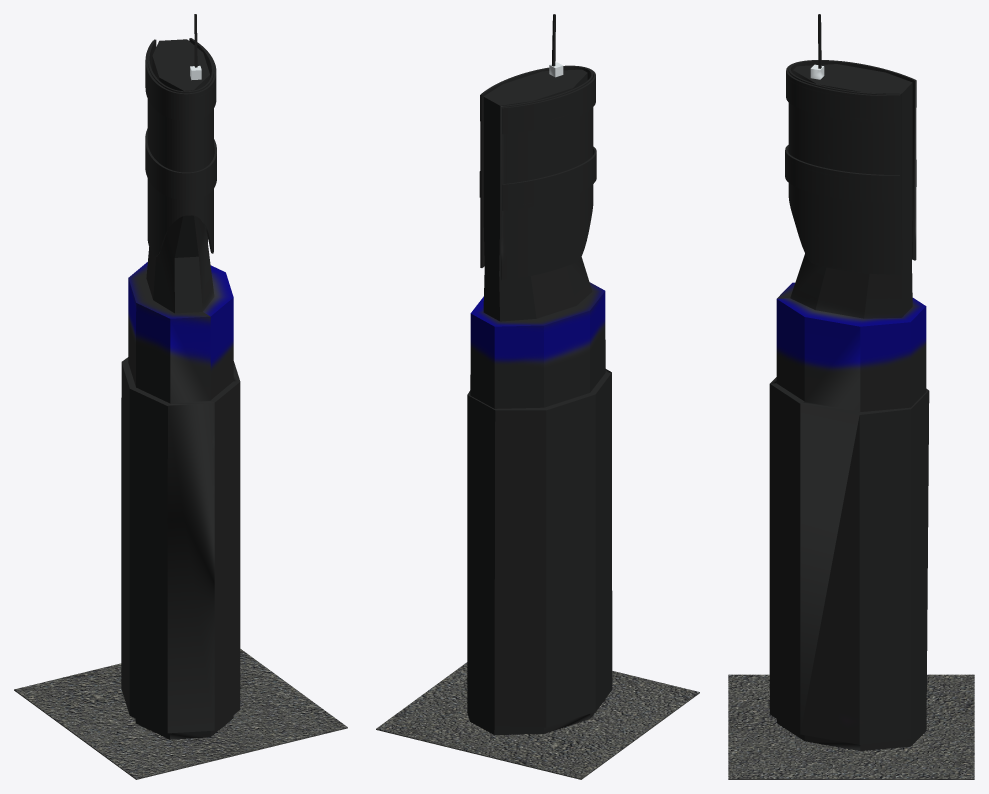
File: zone1.glb
3 views of the same model, side by side, from view 1: azimuth 30°, elevation 25°; view 2: azimuth 150°, elevation 25°; view 3: azimuth 270°, elevation 25° (orthographic). The views are drawn at different scales.
Parts seen in each view (by area): view 1: Tower, Cube; view 2: Tower, Cube; view 3: Tower, Cube.
Boxes of the visible parts, left/top/right/bottom form: Tower: left=121, top=14, right=240, bottom=739; Cube: left=14, top=649, right=347, bottom=779; Tower: left=467, top=14, right=612, bottom=734; Cube: left=376, top=662, right=699, bottom=779; Tower: left=769, top=14, right=929, bottom=750; Cube: left=728, top=674, right=974, bottom=779.
Bounding box in the file's own units: 400 × 1277 × 400.
Materials: 2 (2 with a texture image).
